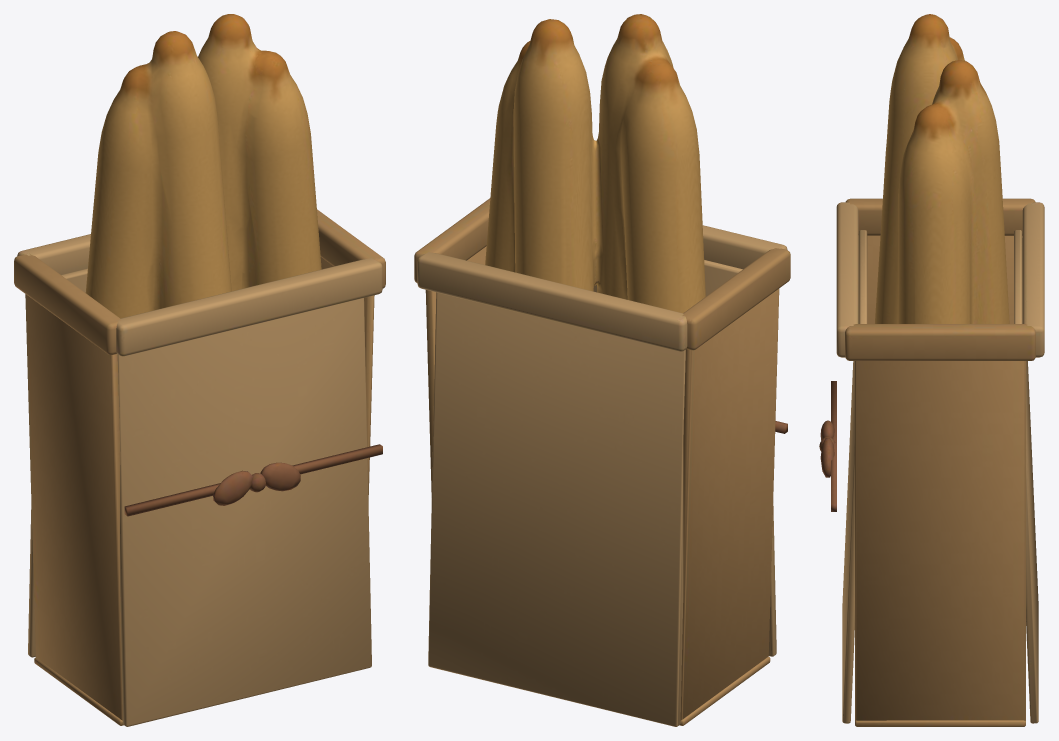
The model's file is tm-banh-mi-bag.glb.
3 views of the same model, side by side, from view 1: azimuth 30°, elevation 25°; view 2: azimuth 150°, elevation 25°; view 3: azimuth 270°, elevation 25° (orthographic). The views are drawn at different scales.
Parts seen in each view (by area): view 1: tm-banh-mi-bag; view 2: tm-banh-mi-bag; view 3: tm-banh-mi-bag.
Boxes of the visible parts, x1,y1,x2,y2 form: tm-banh-mi-bag: (14,14,385,726); tm-banh-mi-bag: (414,14,790,726); tm-banh-mi-bag: (819,14,1044,726).
Bounding box in the file's own units: 0.26 × 0.5738 × 0.184.
Materials: 1 (1 with a texture image).
